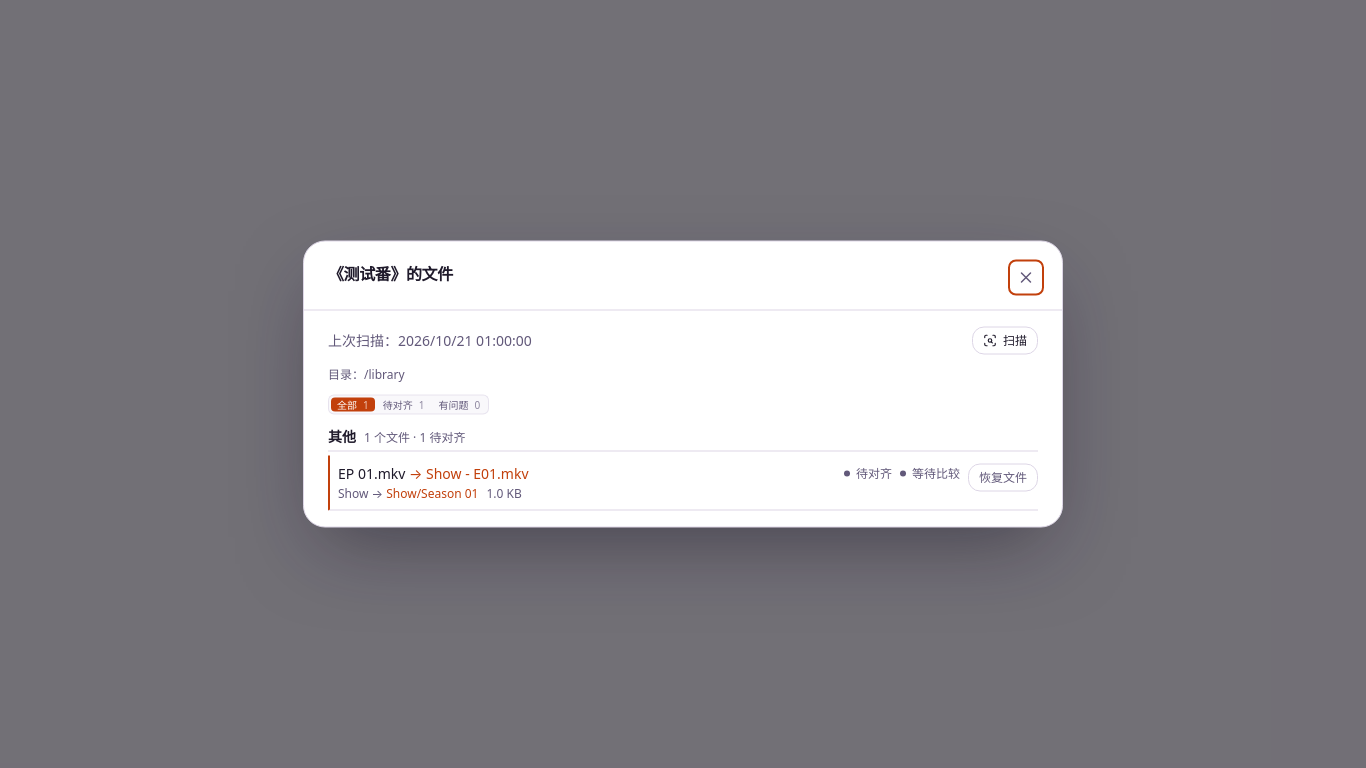
Test: AnimeFilesDialog › shows a move waiting for the version comparison as pending, not as a problem
Click the radio button labelled "有问题 0".
click(459, 404)  # box [438,398,480,412]
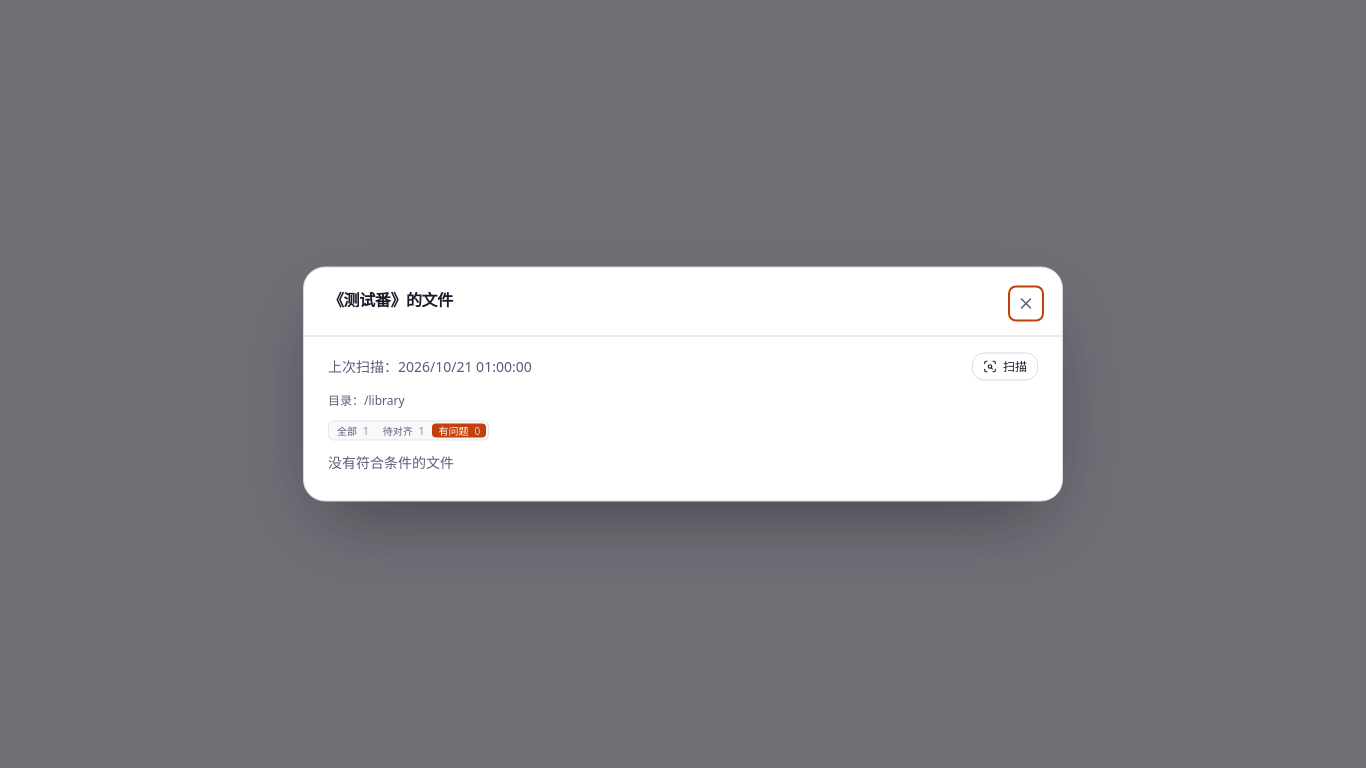
Check: the text "EP 01.mkv" is gone
